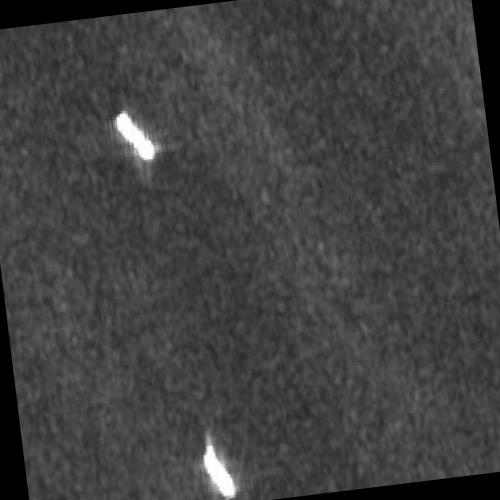ship: (114, 108, 154, 161), (202, 443, 236, 498)
